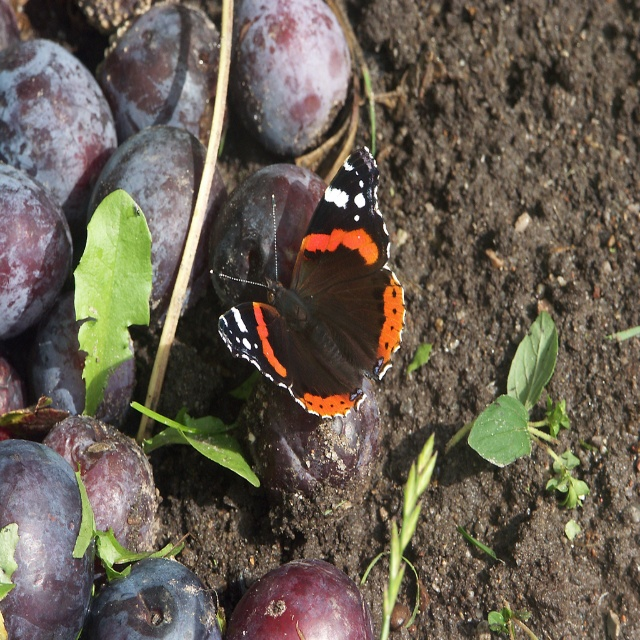Butterfly: (204, 119, 407, 433)
